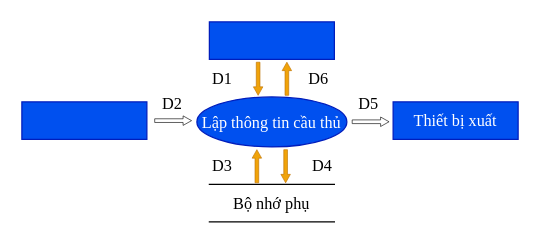
This 540x244 diagram has some shape labels left out. Here are the shapes that lost their labels. From the top down, the centre of each, then its label:
point 271,40: Người dùng
point 84,120: Thiết bị nhập
